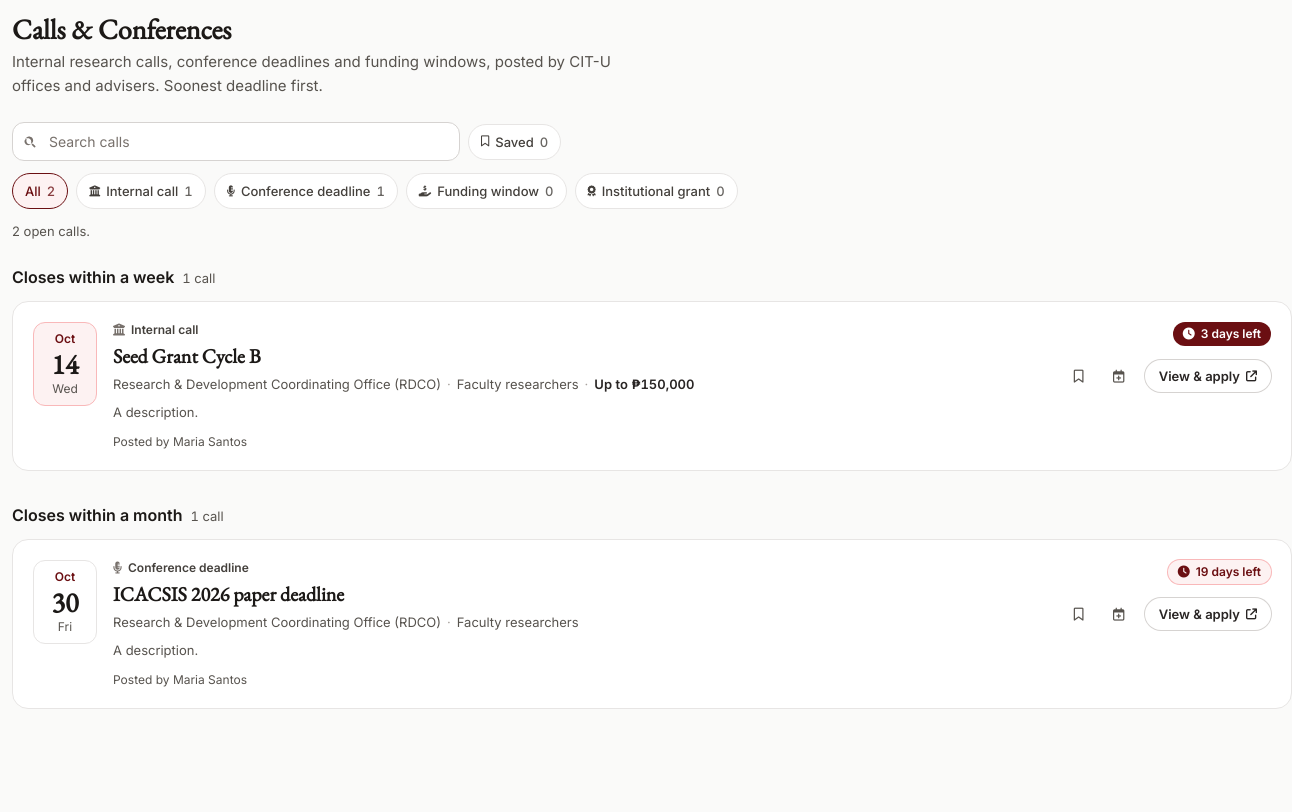
states › reports a calendar failure on its row and leaves the board standing
Expected: the heading "Calls & Conferences" is shown, [12,11,231,47]
Click the button named "Add the Seed Grant Cycle B deadline to your calendar" at {"x": 1119, "y": 376}, box [1101,358,1137,394]
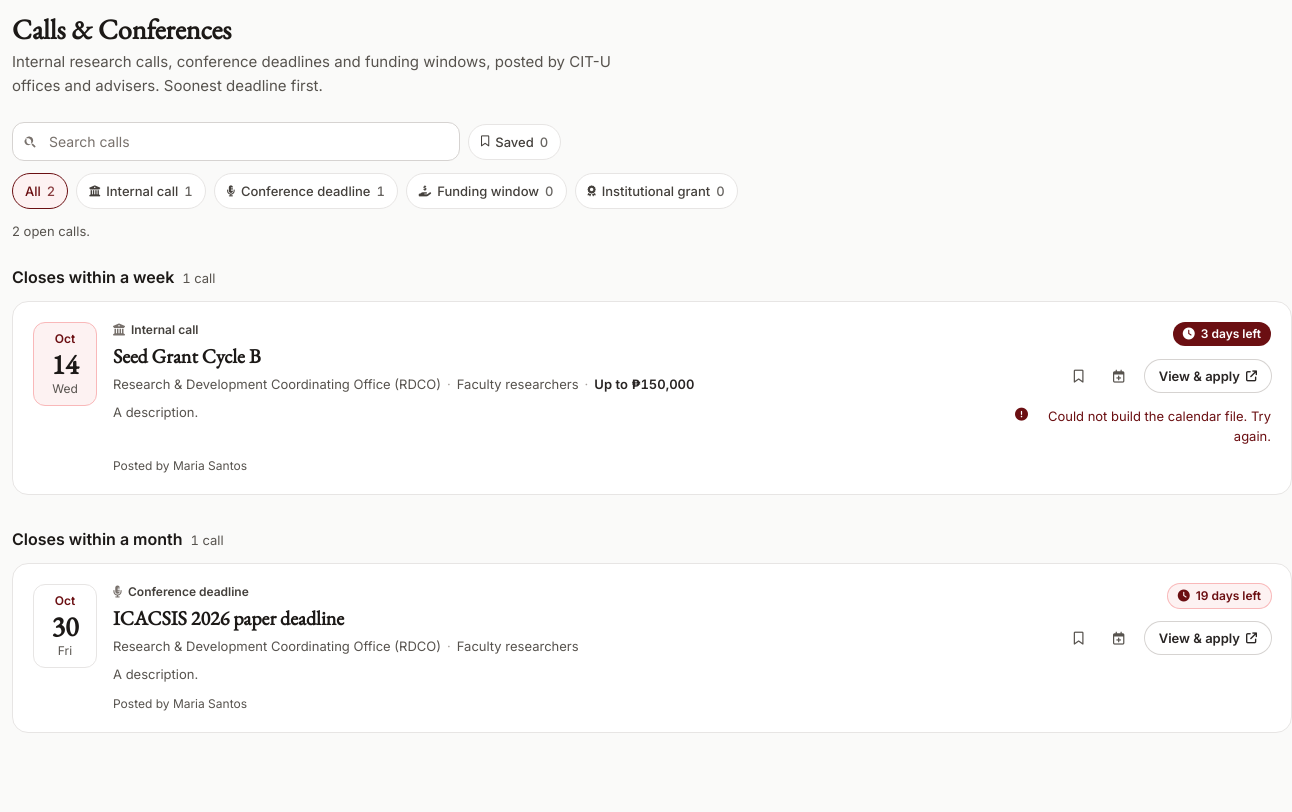
Now the message "Could not build the calendar file. Try again." is shown, box [1015,406,1271,446]
